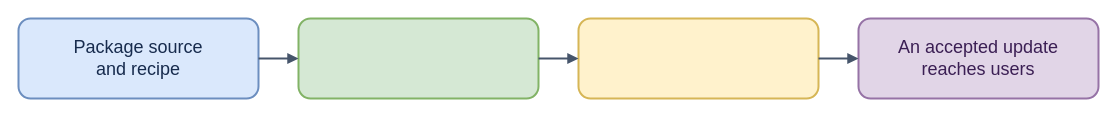
Some shapes in this 1116 by 116 pixel diagram are drawn without their labels. The centre of each missing label's shape, as x and y in pixels:
"Bodhi coordinates stable-update testing" belongs at (x=698, y=58).
"Koji builds the package" belongs at (x=418, y=58).
